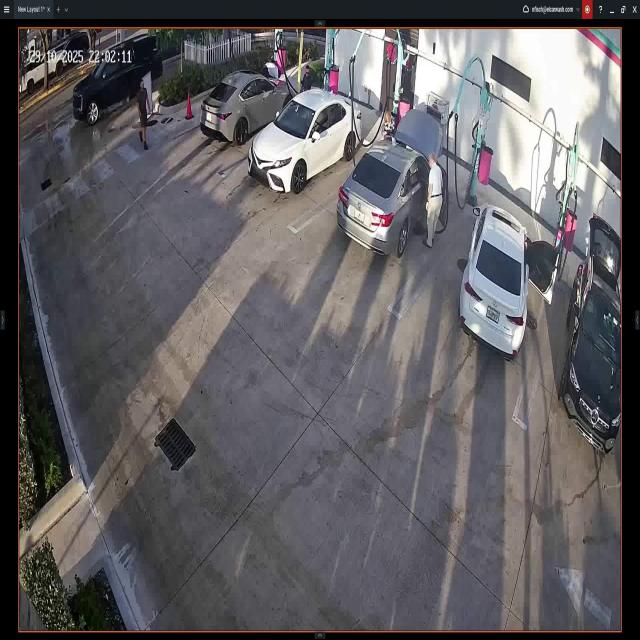Car: (338, 109, 447, 255), (458, 204, 558, 360), (566, 216, 622, 454), (251, 90, 363, 197), (74, 40, 163, 126), (201, 74, 294, 144)
